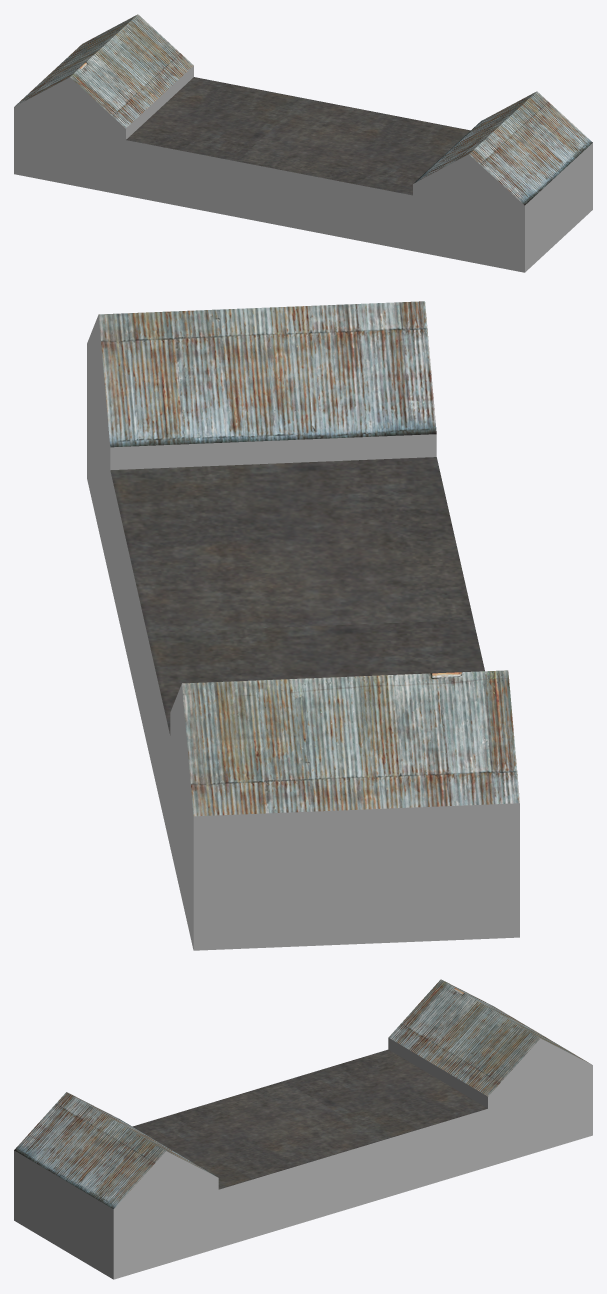
Rendered from SM_GenericBuilding_02.fbx.
The picture shows the model from 3 angles, top to bottom: view 1: azimuth 30°, elevation 25°; view 2: azimuth 150°, elevation 25°; view 3: azimuth 270°, elevation 25°; orthographic projection. The views are drawn at different scales.
Parts seen in each view (by area): view 1: SM_GenericBuilding_02; view 2: SM_GenericBuilding_02; view 3: SM_GenericBuilding_02.
Boxes of the visible parts, x1,y1,x2,y2 form: SM_GenericBuilding_02: (14,14,592,272); SM_GenericBuilding_02: (87,301,519,950); SM_GenericBuilding_02: (14,979,592,1279).
Size of the model in its own units: 882 by 228 by 1061.
